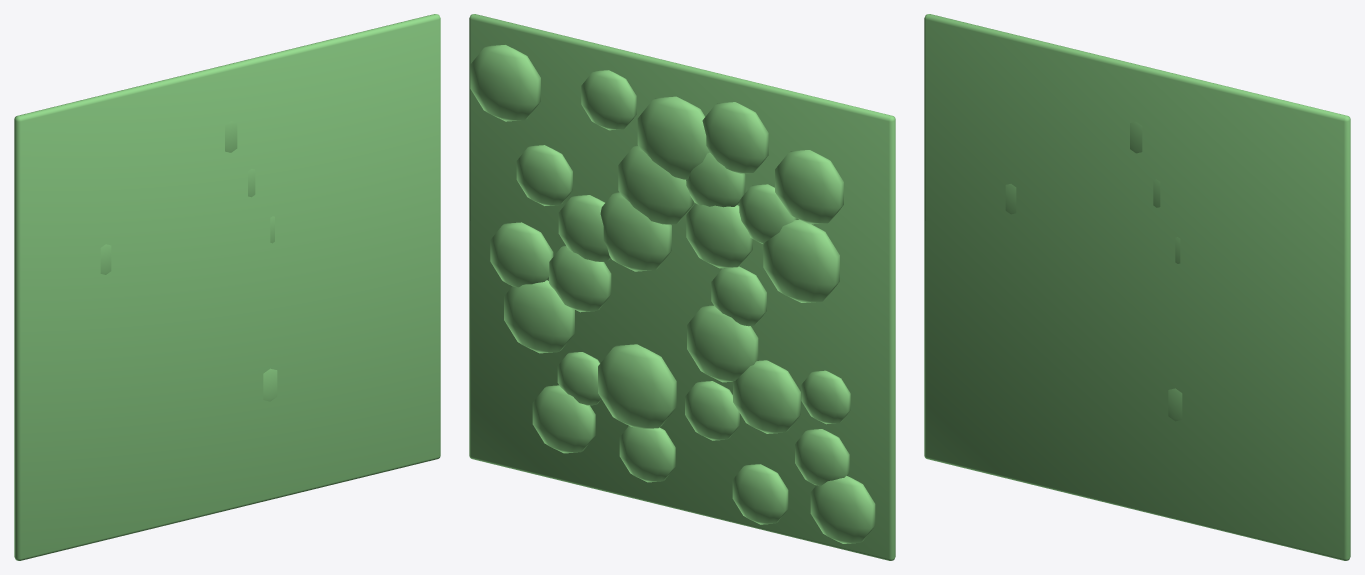
File: Grass.fbx
3 renders of one model, left to right at view 1: azimuth 30°, elevation 25°; view 2: azimuth 150°, elevation 25°; view 3: azimuth 330°, elevation 25°, orthographic.
Visible parts, largest first — view 1: Grass_Light; view 2: Grass_Light; view 3: Grass_Light.
Part boxes in pixels (box(x1,y1,x2,y2)): Grass_Light: box(14, 14, 440, 560); Grass_Light: box(469, 14, 895, 560); Grass_Light: box(924, 14, 1350, 560).
Size of the model in its own units: 1 by 1 by 0.064.
